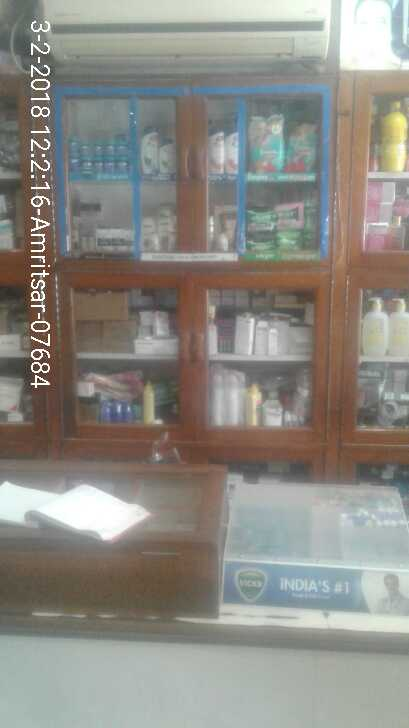vicks: (69, 131, 137, 181)
